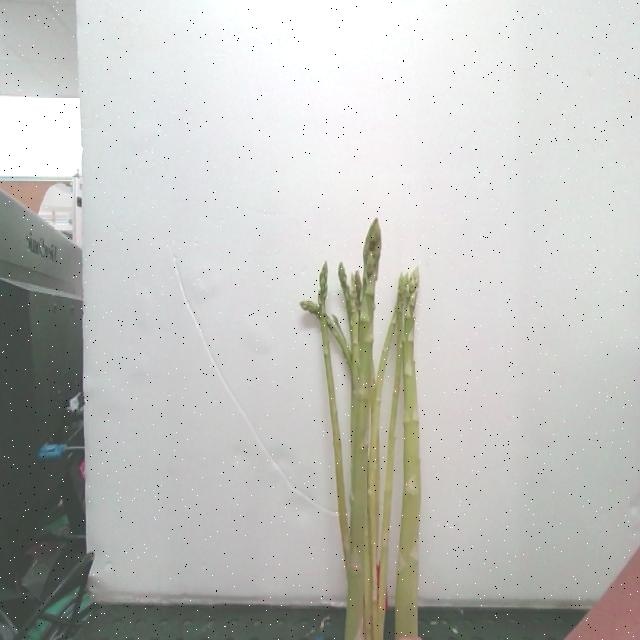aspargus: (351, 222, 384, 640), (399, 266, 425, 636)
